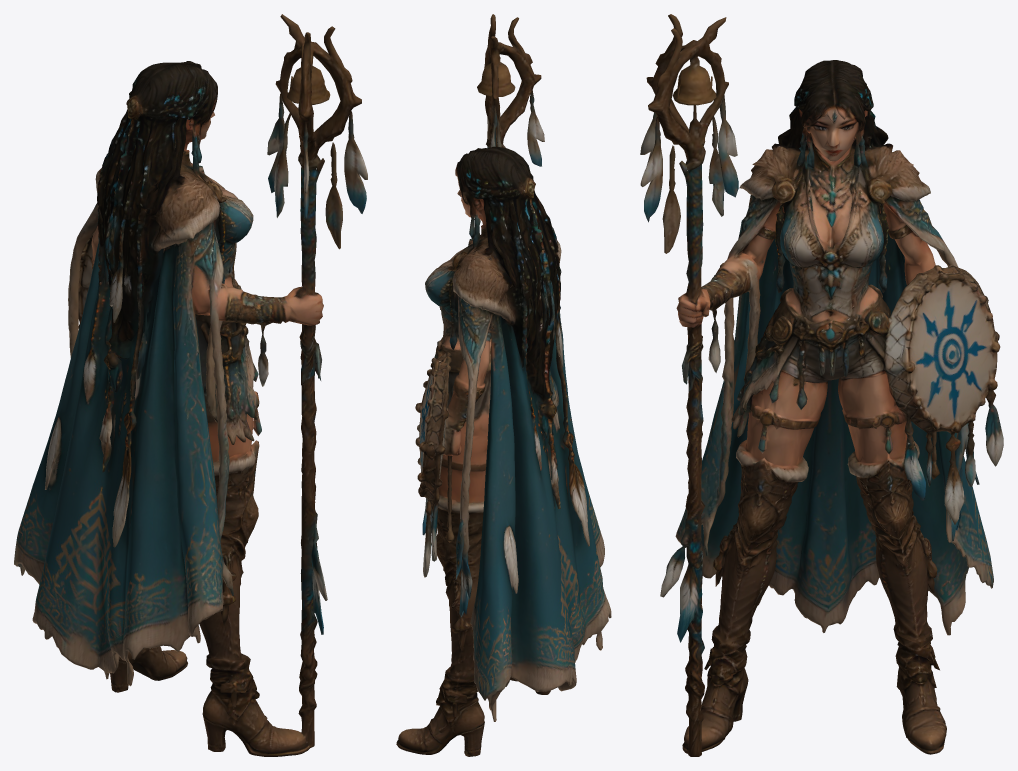
File: drumcaller2_T2-tripo.glb
3 views of the same model, side by side, from view 1: azimuth 30°, elevation 25°; view 2: azimuth 150°, elevation 25°; view 3: azimuth 270°, elevation 25° (orthographic). The views are drawn at different scales.
Parts seen in each view (by area): view 1: tripo_node_ce32665d-a0a7-4f66-bb2d-2af5bca79e56; view 2: tripo_node_ce32665d-a0a7-4f66-bb2d-2af5bca79e56; view 3: tripo_node_ce32665d-a0a7-4f66-bb2d-2af5bca79e56.
Part boxes in pixels (x1,y1,x2,y2): tripo_node_ce32665d-a0a7-4f66-bb2d-2af5bca79e56: (14, 14, 367, 756); tripo_node_ce32665d-a0a7-4f66-bb2d-2af5bca79e56: (396, 14, 611, 756); tripo_node_ce32665d-a0a7-4f66-bb2d-2af5bca79e56: (640, 14, 1003, 756).
Size of the model in its own units: 0.3005 by 1 by 0.4459.
1 material, 1 textured.
